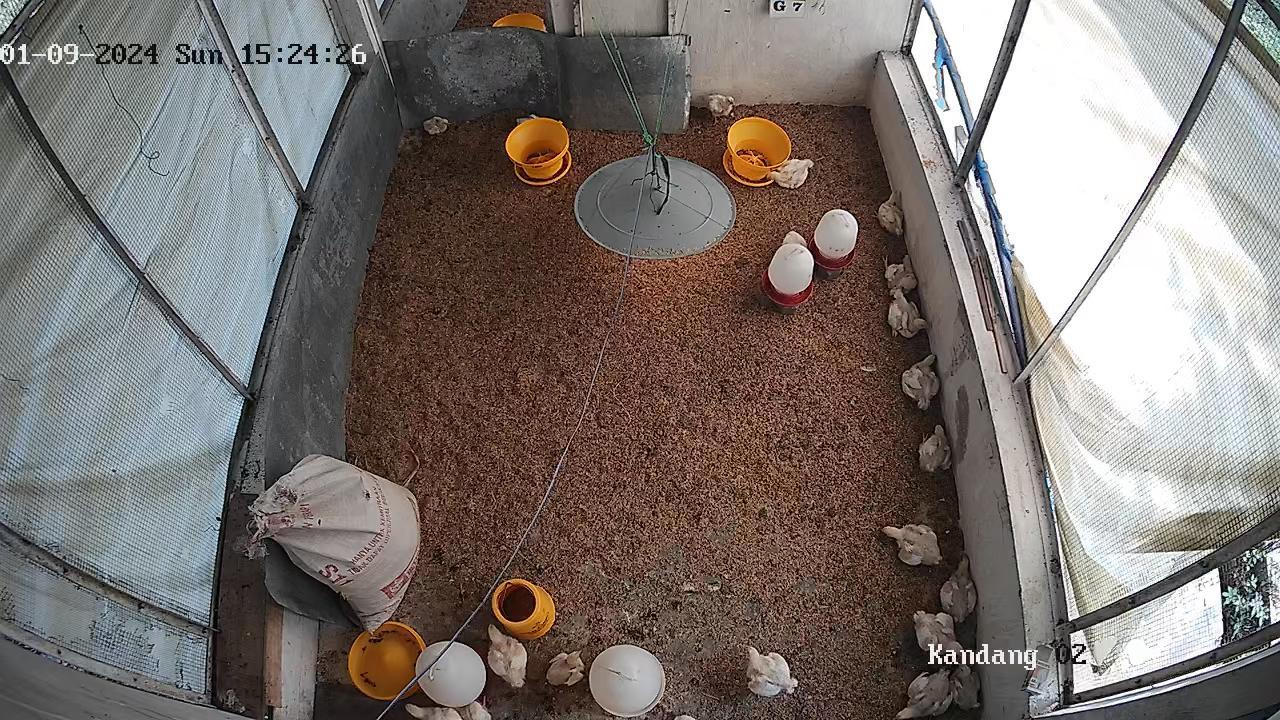chicken: (894, 667, 955, 720), (741, 646, 798, 699), (487, 622, 530, 690), (880, 523, 943, 567), (940, 554, 978, 625), (900, 350, 941, 412), (911, 609, 961, 658), (887, 287, 927, 340), (917, 424, 954, 473), (951, 654, 982, 711), (764, 157, 815, 190), (546, 649, 586, 688), (883, 253, 919, 296), (877, 189, 904, 238), (404, 704, 465, 720), (455, 699, 495, 720), (707, 93, 736, 118), (422, 114, 449, 136), (781, 229, 808, 248)
